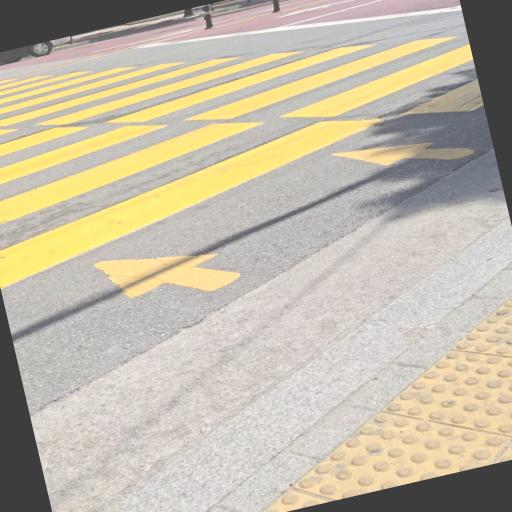yellow-crosswalk: (0, 0, 505, 347)
